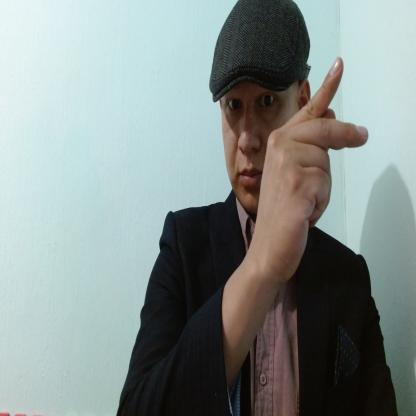P: (250, 53, 369, 287)
